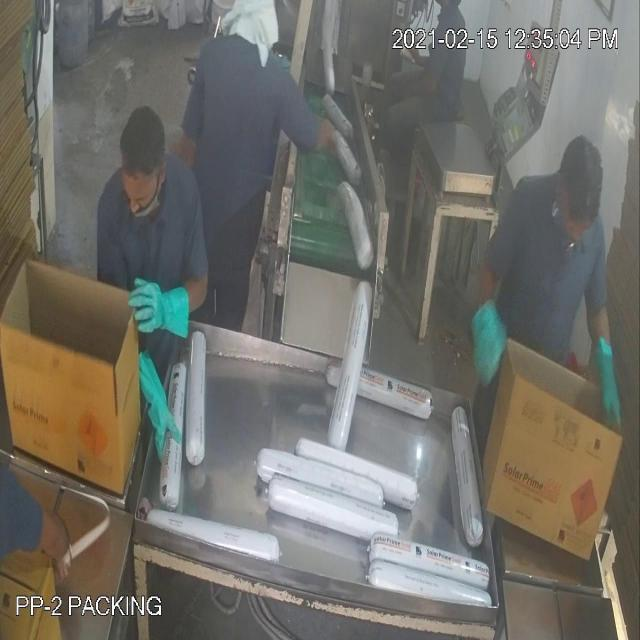Gloves: (41, 76, 607, 532)
